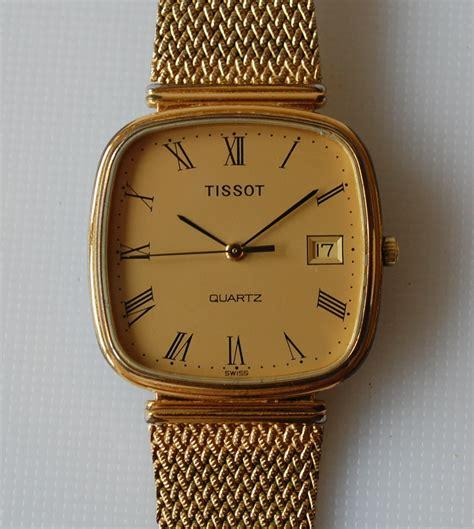Watch: (88, 0, 400, 528)
